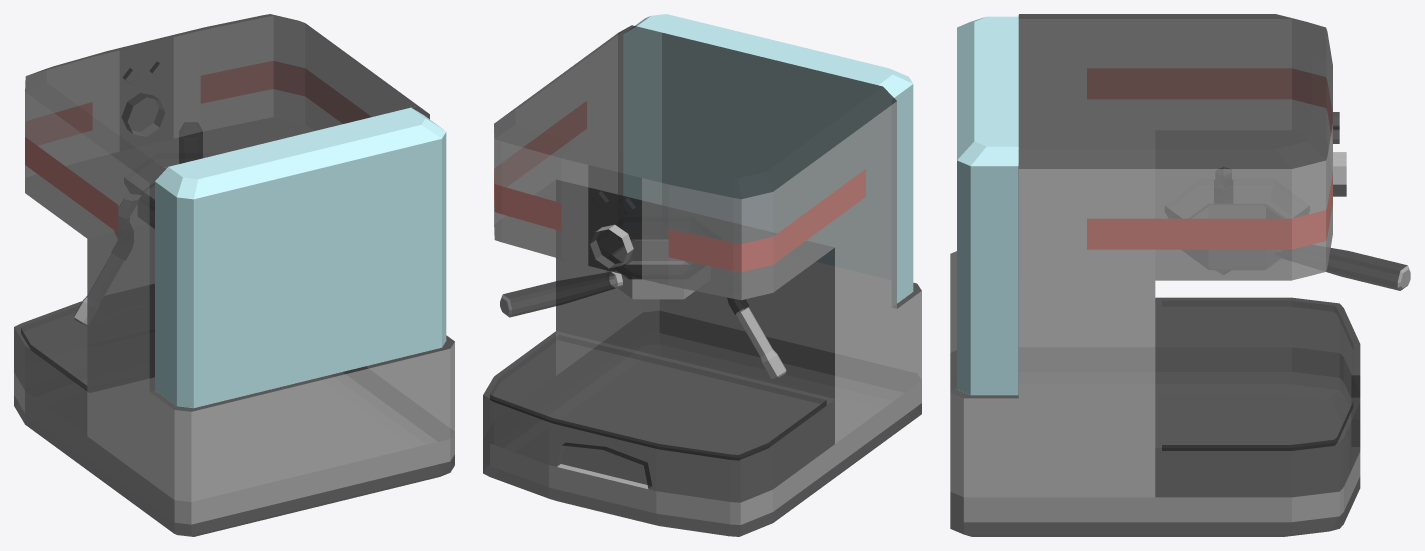
Rendered from single_espresso_exportPrep.gltf.
The picture shows the model from 3 angles, left to right: view 1: azimuth 30°, elevation 25°; view 2: azimuth 150°, elevation 25°; view 3: azimuth 270°, elevation 25°; orthographic projection. The views are drawn at different scales.
Parts seen in each view (by area): view 1: EspressoMachine; view 2: EspressoMachine; view 3: EspressoMachine.
Boxes of the visible parts, x1=… form: EspressoMachine: x1=14, y1=14, x2=454, y2=536; EspressoMachine: x1=483, y1=14, x2=921, y2=536; EspressoMachine: x1=950, y1=14, x2=1410, y2=536.
Bounding box in the file's own units: 1.3 × 1.55 × 1.68.
